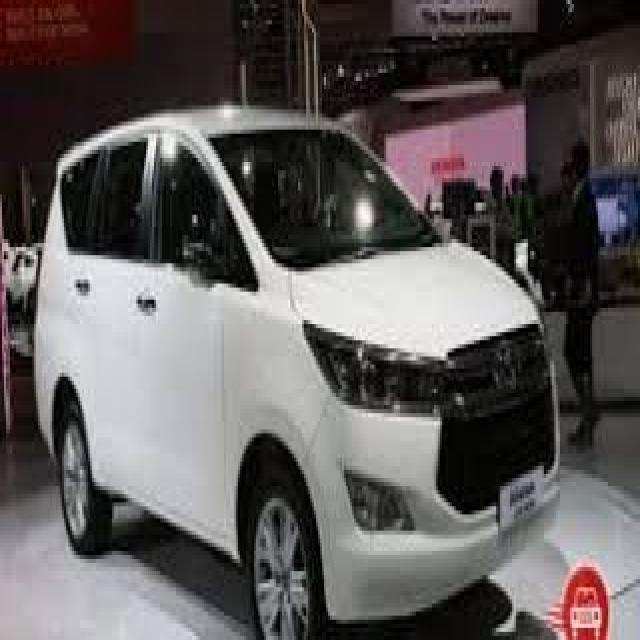light_vehicle: (34, 107, 560, 640)
